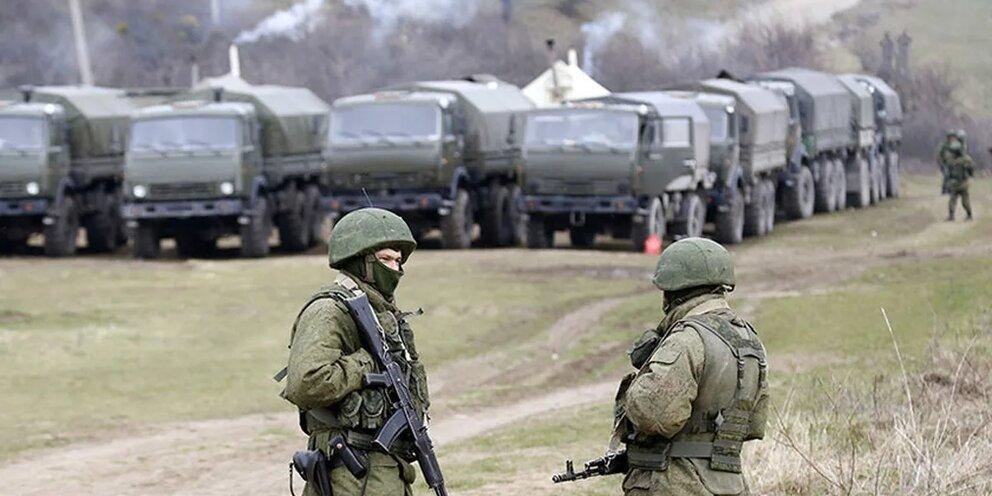person: (277, 210, 445, 496), (604, 229, 772, 496), (948, 147, 976, 225), (942, 132, 965, 202), (880, 32, 896, 74), (897, 30, 912, 72)
truck: (128, 84, 324, 261), (327, 88, 528, 247), (526, 87, 711, 257), (0, 82, 126, 258), (710, 70, 784, 247), (786, 63, 850, 217), (847, 63, 878, 216), (876, 63, 906, 207)
